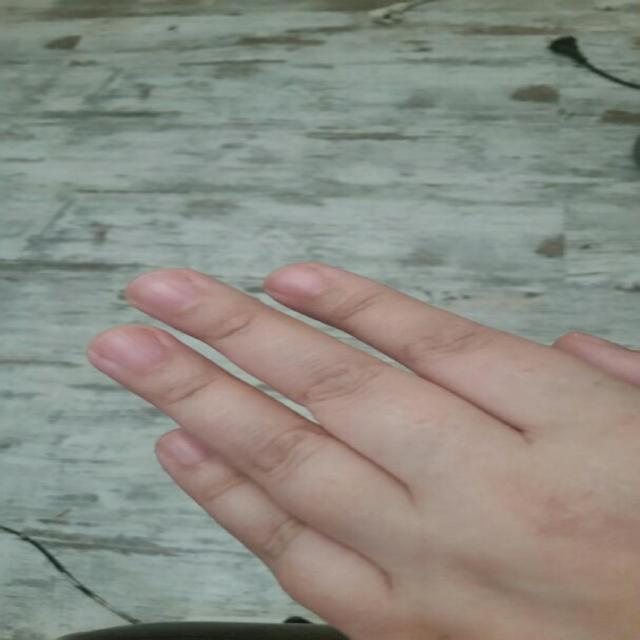Nail: (92, 328, 168, 372), (130, 271, 204, 313), (264, 263, 326, 298), (156, 429, 210, 467), (575, 331, 633, 351)
